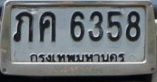txt03: (38, 10, 56, 43)
txt27: (12, 10, 36, 43)
